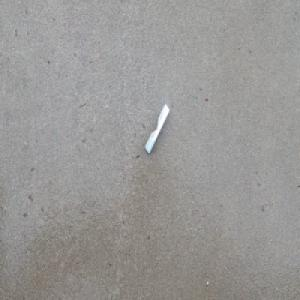ClampPart: (144, 103, 170, 155)
